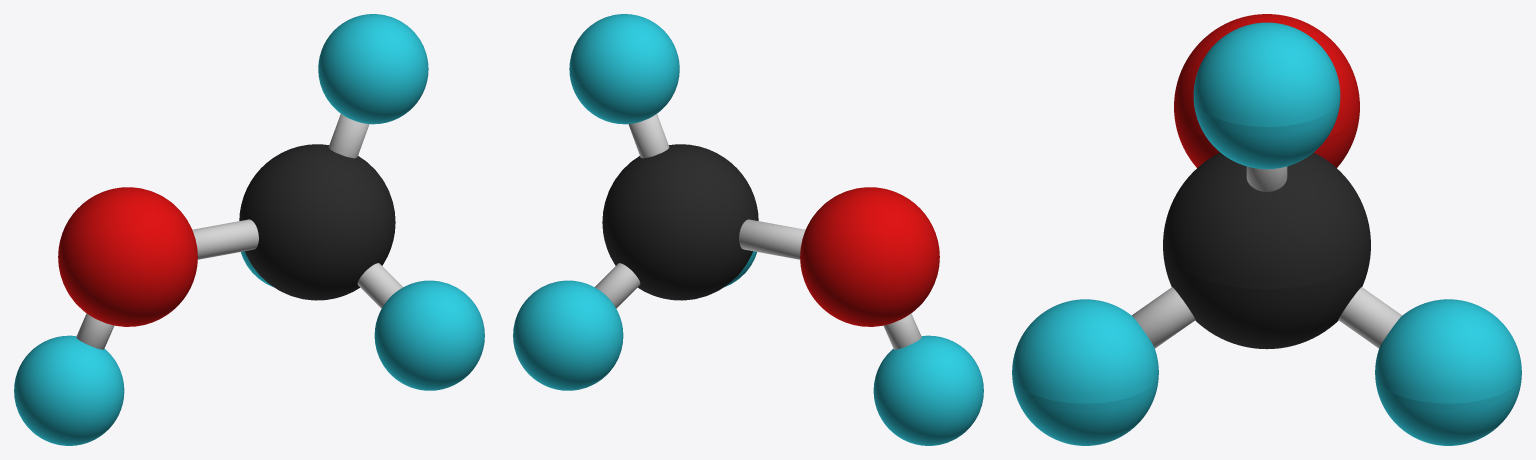
File: 029_Methanol_2.glb
3 renders of one model, left to right at view 1: azimuth 30°, elevation 25°; view 2: azimuth 150°, elevation 25°; view 3: azimuth 270°, elevation 25°, orthographic. The views are drawn at different scales.
Parts seen in each view (by area): view 1: 1, 2, 3, 5, 6, 結合, 結合.003, 結合.001, 結合.004; view 2: 1, 2, 4, 5, 6, 結合, 結合.003, 結合.002, 結合.004; view 3: 1, 5, 3, 4, 2, 結合.001, 結合.002, 結合.003.
Part boxes in pixels (x1,y1,x2,y2): 1: [239, 144, 395, 300]; 2: [58, 187, 197, 326]; 3: [374, 280, 484, 390]; 5: [318, 14, 428, 124]; 6: [14, 335, 124, 445]; 結合: [192, 219, 258, 259]; 結合.003: [328, 114, 369, 158]; 結合.001: [357, 263, 402, 308]; 結合.004: [76, 313, 114, 349]; 1: [602, 144, 758, 300]; 2: [800, 187, 939, 326]; 4: [513, 280, 623, 390]; 5: [569, 14, 679, 124]; 6: [873, 335, 983, 445]; 結合: [739, 219, 805, 259]; 結合.003: [628, 114, 669, 158]; 結合.002: [595, 263, 640, 308]; 結合.004: [883, 313, 921, 349]; 1: [1163, 152, 1370, 349]; 5: [1193, 22, 1340, 169]; 3: [1012, 299, 1158, 445]; 4: [1375, 299, 1521, 445]; 2: [1174, 14, 1359, 167]; 結合.001: [1132, 287, 1195, 348]; 結合.002: [1338, 287, 1401, 348]; 結合.003: [1246, 166, 1287, 191].
Bounding box in the file's own units: 3.01 × 2.5 × 2.5.
